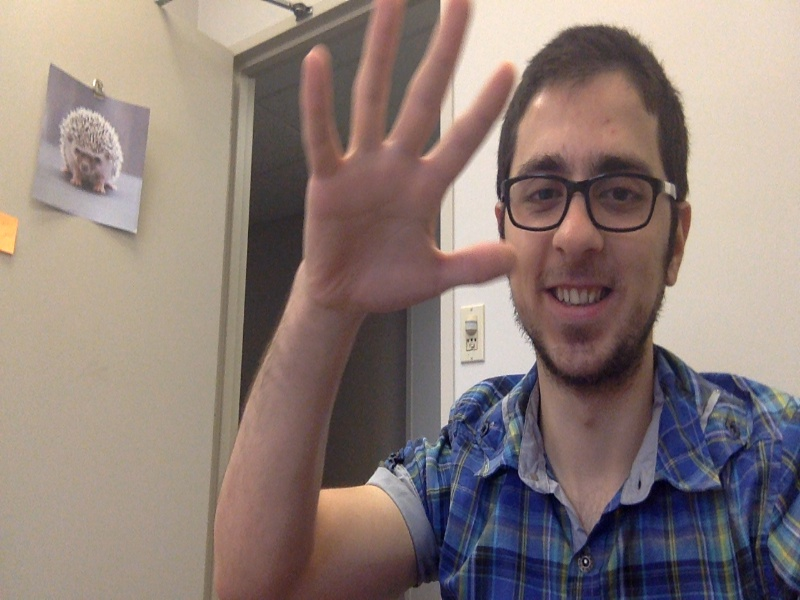5-hand: (294, 3, 523, 320)
